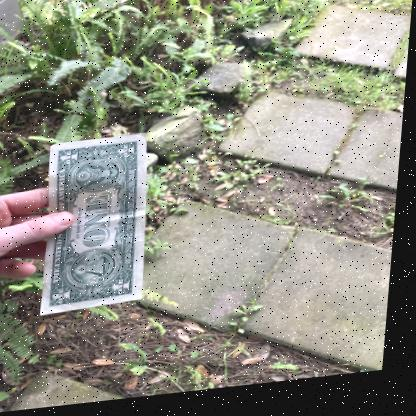one-back: (36, 130, 146, 325)
